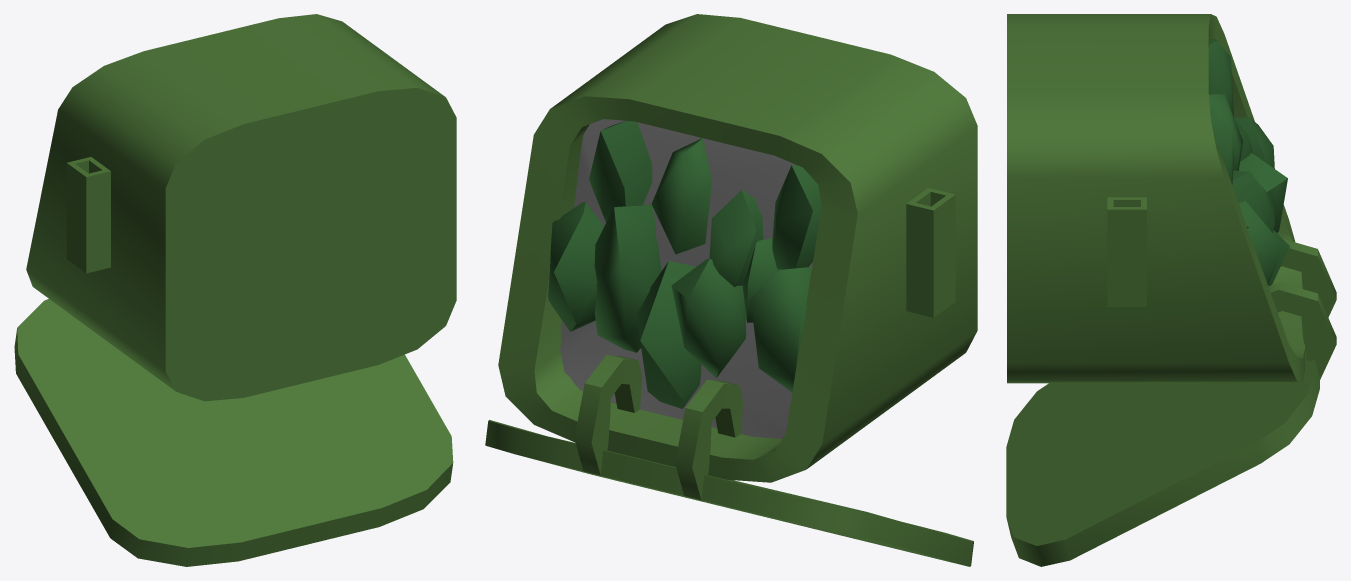
The model's file is P_Trash.fbx.
3 renders of one model, left to right at view 1: azimuth 30°, elevation 25°; view 2: azimuth 150°, elevation 25°; view 3: azimuth 270°, elevation 25°, orthographic. The views are drawn at different scales.
Parts seen in each view (by area): view 1: trashcontainer01_open; view 2: trashcontainer01_open; view 3: trashcontainer01_open.
Part boxes in pixels (x1,y1,x2,y2): trashcontainer01_open: (14, 14, 456, 566); trashcontainer01_open: (485, 14, 977, 566); trashcontainer01_open: (1006, 14, 1336, 566).
Bounding box in the file's own units: 150 × 180 × 122.
